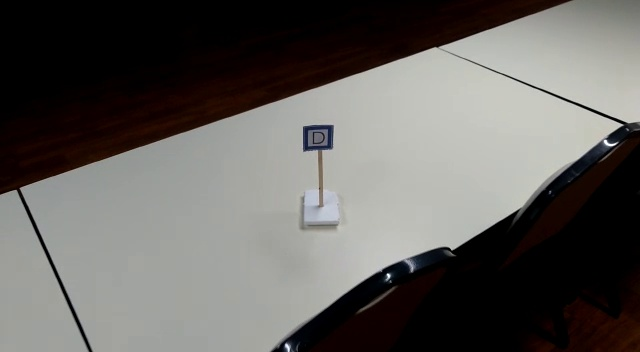durak: (303, 124, 333, 152)
